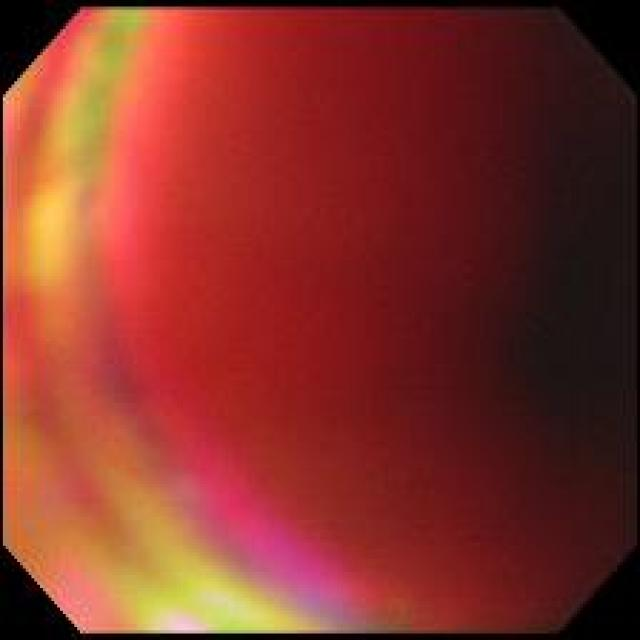color misalignment: (5, 5, 639, 638)
